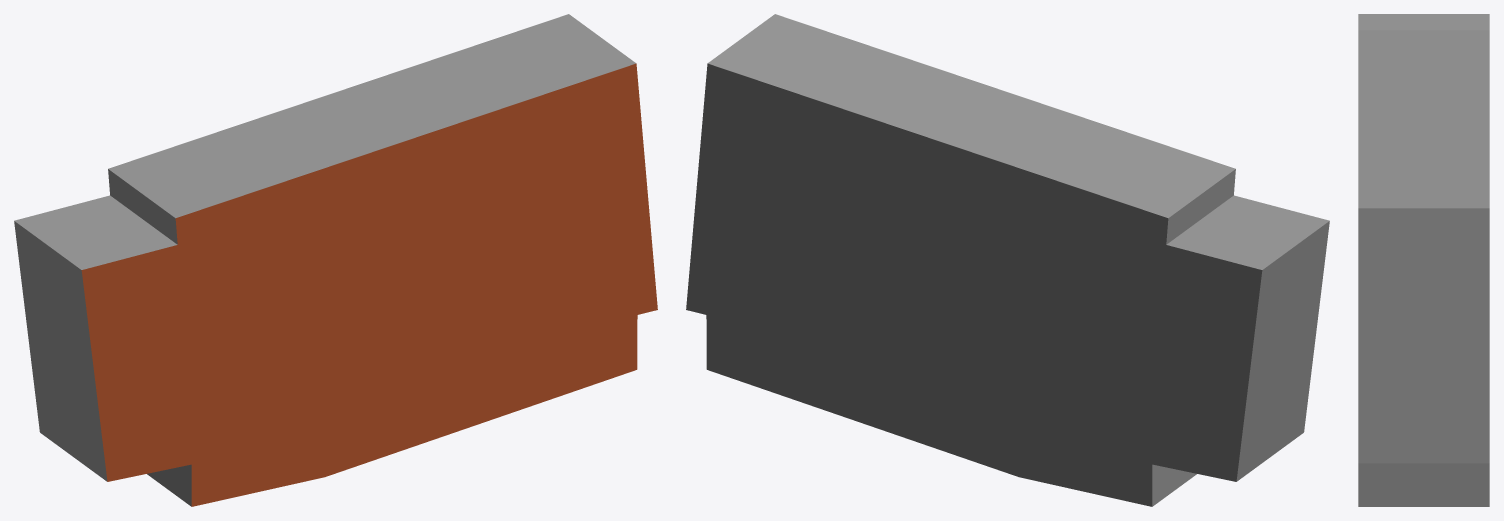
File: construction_0239_assumed_A_Casa_h6m.obj
The picture shows the model from 3 angles, left to right: view 1: azimuth 30°, elevation 25°; view 2: azimuth 150°, elevation 25°; view 3: azimuth 270°, elevation 25°; orthographic projection. The views are drawn at different scales.
Visible parts, largest first — view 1: construction_0239_assumed_A_Casa; view 2: construction_0239_assumed_A_Casa; view 3: construction_0239_assumed_A_Casa.
Part boxes in pixels (box(x1,y1,x2,y2)): construction_0239_assumed_A_Casa: box(14, 14, 657, 506); construction_0239_assumed_A_Casa: box(686, 14, 1329, 506); construction_0239_assumed_A_Casa: box(1358, 14, 1489, 506).
Size of the model in its own units: 29.53 by 16.54 by 6.
